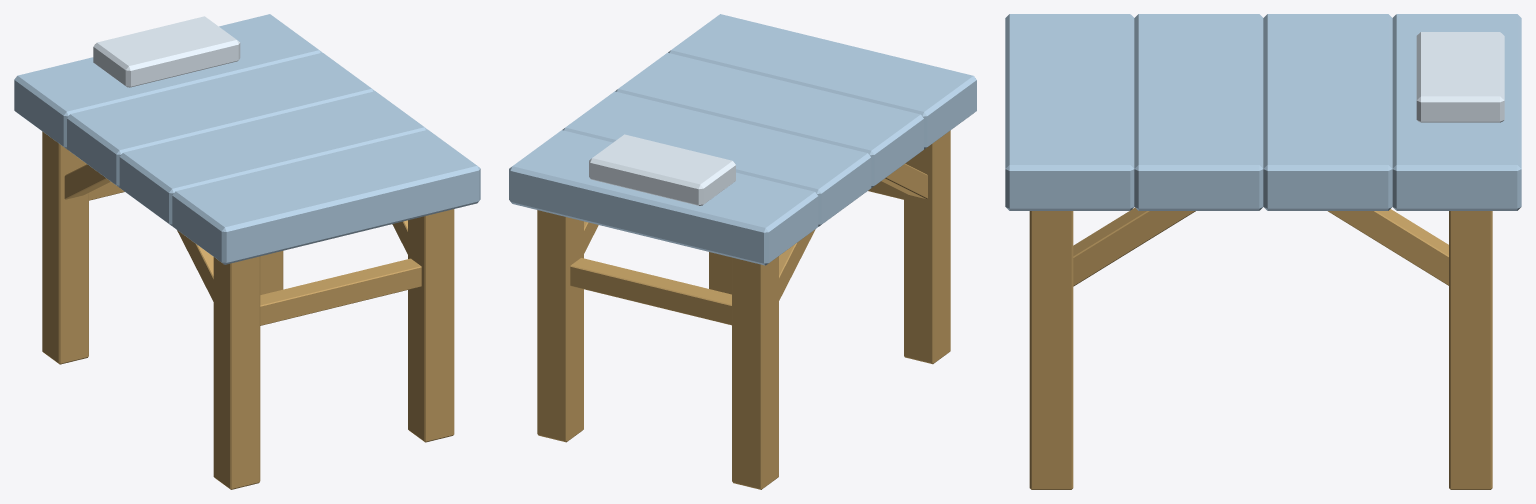
Rendered from Massage_table_01.fbx.
The picture shows the model from 3 angles, left to right: view 1: azimuth 30°, elevation 25°; view 2: azimuth 150°, elevation 25°; view 3: azimuth 270°, elevation 25°; orthographic projection. The views are drawn at different scales.
Visible parts, largest first — view 1: polySurface2, polySurface9, polySurface8, Leg_01_8, polySurface1, Leg_01_1, Leg_01_3, Pillow_01, Leg_01_4, Leg_01_2, Leg_01_7, Leg_01_9; view 2: polySurface1, polySurface2, polySurface9, polySurface8, Leg_01_3, Leg_01_7, Leg_01_8, Pillow_01, Leg_01_10, Leg_01_9, Leg_01_2, Leg_01_1; view 3: polySurface8, polySurface9, polySurface2, polySurface1, Leg_01_1, Leg_01_7, Pillow_01, Leg_01_5, Leg_01_6.
Part boxes in pixels (x1=…): polySurface2: x1=172, y1=130, x2=480, y2=264; polySurface9: x1=119, y1=91, x2=427, y2=225; polySurface8: x1=67, y1=52, x2=374, y2=187; Leg_01_8: x1=213, y1=256, x2=260, y2=489; polySurface1: x1=14, y1=14, x2=321, y2=148; Leg_01_1: x1=408, y1=209, x2=454, y2=442; Leg_01_3: x1=42, y1=131, x2=88, y2=364; Pillow_01: x1=93, y1=16, x2=240, y2=87; Leg_01_4: x1=260, y1=258, x2=421, y2=325; Leg_01_2: x1=64, y1=164, x2=110, y2=199; Leg_01_7: x1=260, y1=251, x2=283, y2=294; Leg_01_9: x1=177, y1=230, x2=213, y2=301; polySurface1: x1=509, y1=130, x2=818, y2=265; polySurface2: x1=668, y1=14, x2=976, y2=149; polySurface9: x1=615, y1=52, x2=923, y2=187; polySurface8: x1=562, y1=91, x2=871, y2=226; Leg_01_3: x1=732, y1=256, x2=778, y2=489; Leg_01_7: x1=537, y1=210, x2=583, y2=442; Leg_01_8: x1=904, y1=130, x2=950, y2=364; Pillow_01: x1=589, y1=134, x2=735, y2=205; Leg_01_10: x1=570, y1=258, x2=731, y2=325; Leg_01_9: x1=881, y1=163, x2=927, y2=199; Leg_01_2: x1=779, y1=229, x2=815, y2=300; Leg_01_1: x1=709, y1=252, x2=731, y2=294; polySurface8: x1=1263, y1=14, x2=1392, y2=210; polySurface9: x1=1134, y1=14, x2=1263, y2=210; polySurface2: x1=1005, y1=14, x2=1134, y2=210; polySurface1: x1=1392, y1=14, x2=1521, y2=210; Leg_01_1: x1=1029, y1=211, x2=1073, y2=489; Leg_01_7: x1=1449, y1=211, x2=1492, y2=489; Pillow_01: x1=1416, y1=32, x2=1504, y2=122; Leg_01_5: x1=1073, y1=208, x2=1195, y2=286; Leg_01_6: x1=1328, y1=209, x2=1448, y2=285.
Size of the model in its own units: 98.44 by 107 by 139.
1 material, 1 textured.
